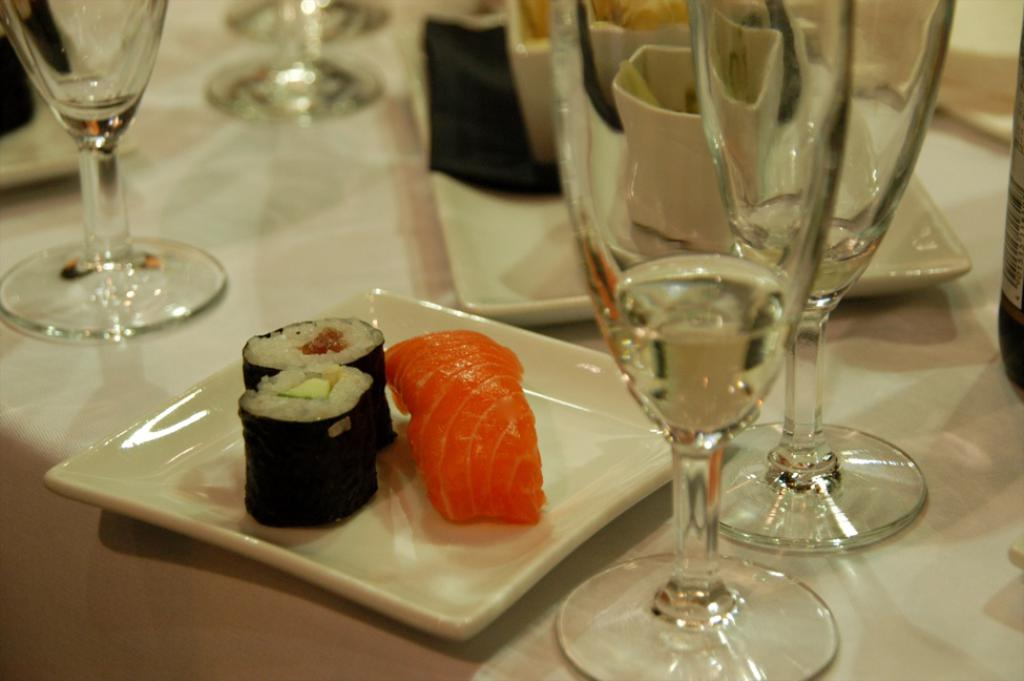sushi: (383, 332, 546, 515), (246, 315, 389, 451)
